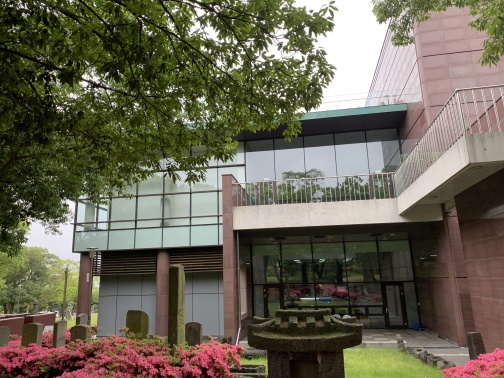Museum: (80, 99, 504, 367)
